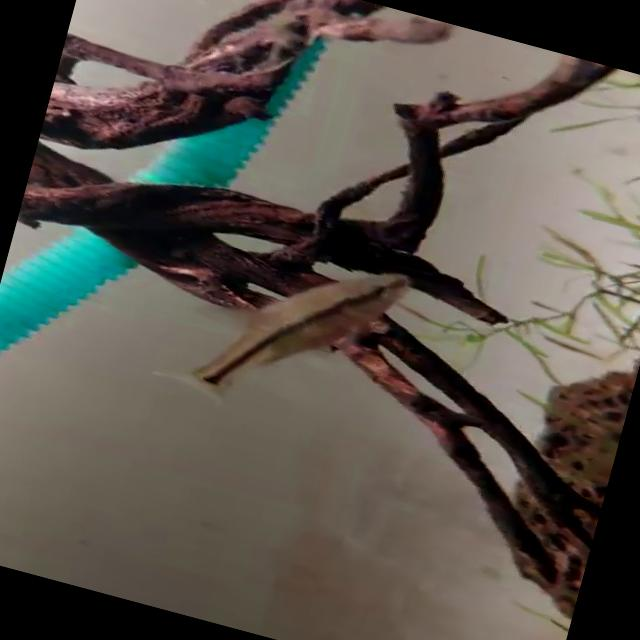Cakil Baligi: (146, 219, 408, 431)
